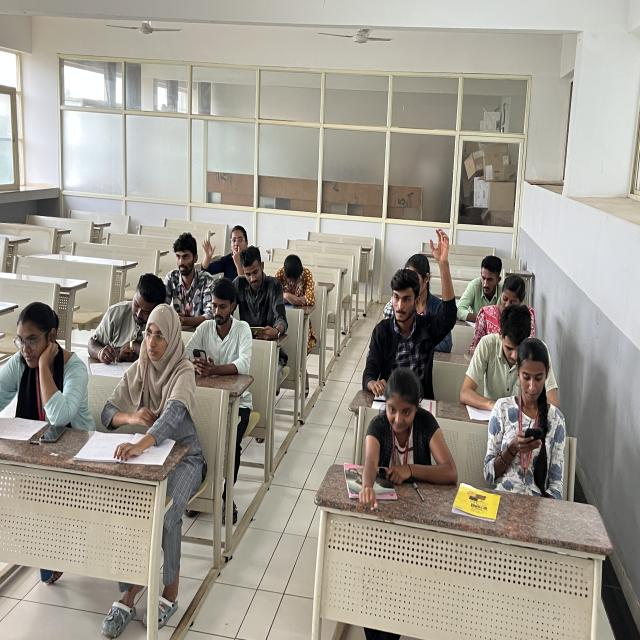Hand Rising: (370, 222, 460, 375)
Reading: (4, 295, 93, 433), (233, 244, 286, 341), (458, 251, 504, 333)
Using Phone: (472, 338, 577, 475), (189, 279, 256, 375)
Writing: (84, 272, 178, 379)
